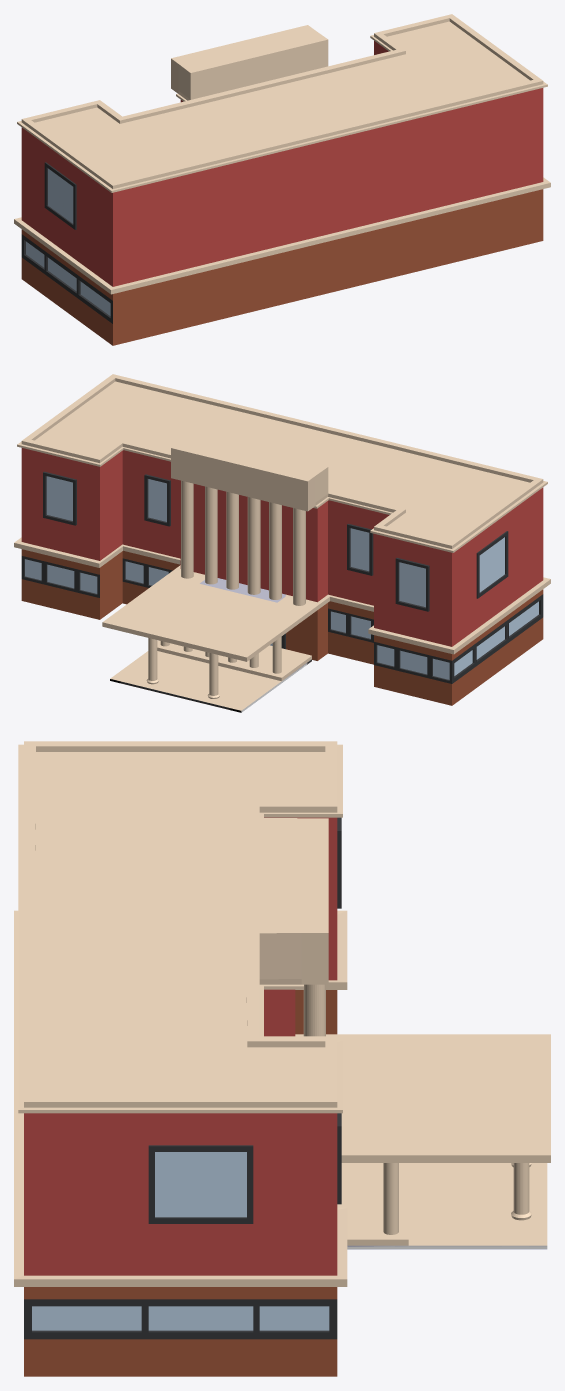
The model's file is aiUni.glb.
3 renders of one model, top to bottom at view 1: azimuth 30°, elevation 25°; view 2: azimuth 150°, elevation 25°; view 3: azimuth 270°, elevation 25°, orthographic. The views are drawn at different scales.
Parts seen in each view (by area): view 1: Cube.013; view 2: Cube.013; view 3: Cube.013.
Part boxes in pixels (x1,y1,x2,y2): Cube.013: [14, 14, 550, 345]; Cube.013: [14, 374, 550, 712]; Cube.013: [14, 741, 550, 1376].
Size of the model in its own units: 22.33 by 9.06 by 13.75.
Materials: 1 (1 with a texture image).
